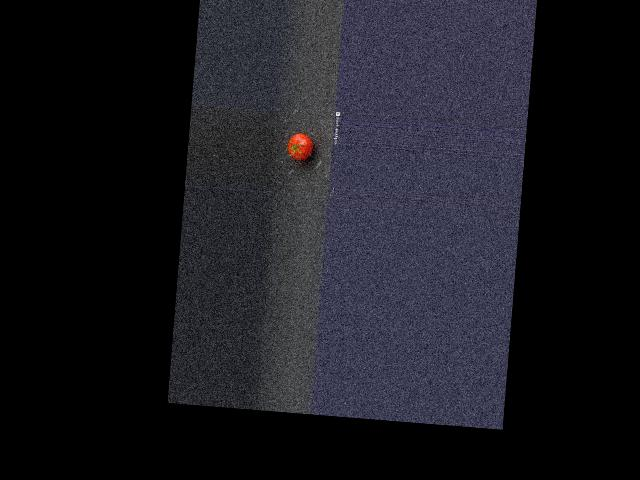tomato: (286, 132, 313, 161)
